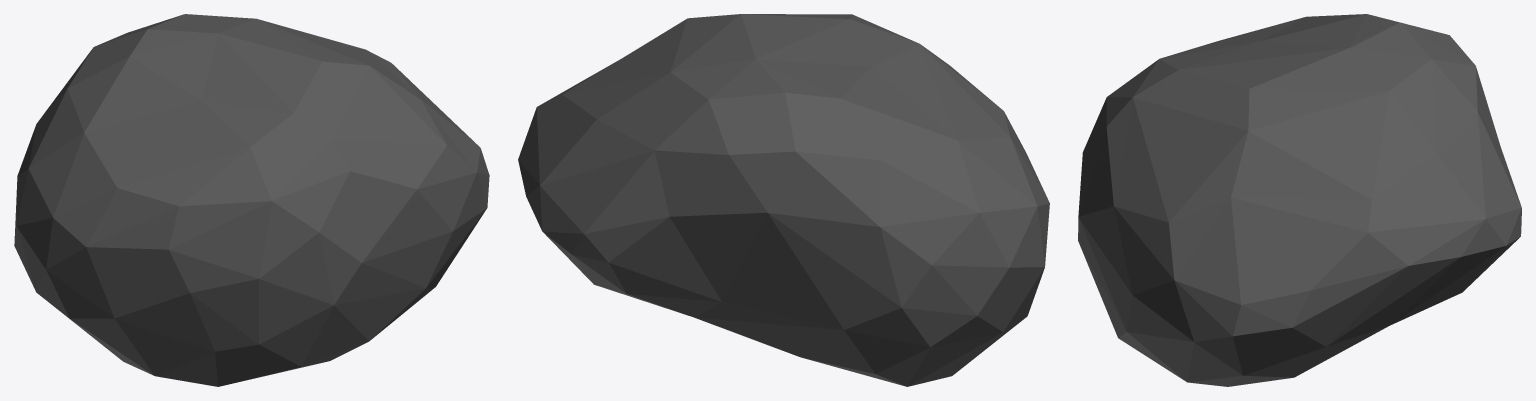
File: stone2.fbx
3 renders of one model, left to right at view 1: azimuth 30°, elevation 25°; view 2: azimuth 150°, elevation 25°; view 3: azimuth 270°, elevation 25°, orthographic. The views are drawn at different scales.
Visible parts, largest first — view 1: stone2; view 2: stone2; view 3: stone2.
Part boxes in pixels (bbox=[...]): stone2: bbox=[14, 14, 489, 386]; stone2: bbox=[518, 14, 1049, 386]; stone2: bbox=[1078, 14, 1521, 386].
Bounding box in the file's own units: 146 × 89.88 × 119.
